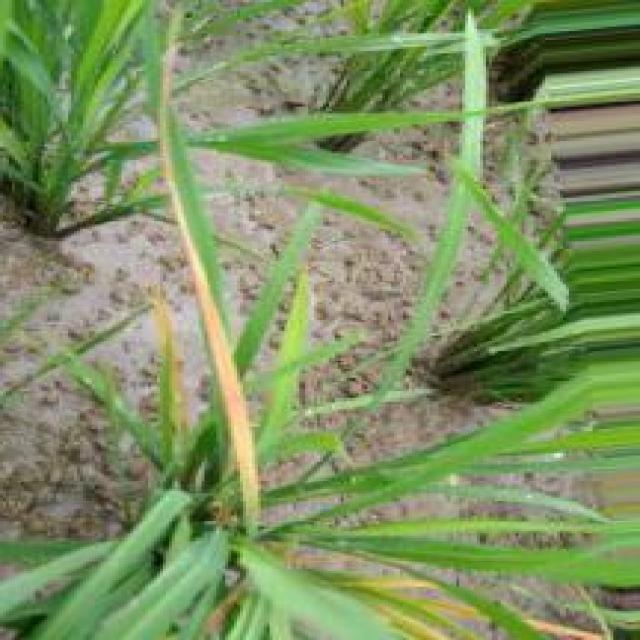Rice Tungro: (158, 16, 260, 533), (156, 285, 190, 444), (525, 619, 603, 640)
